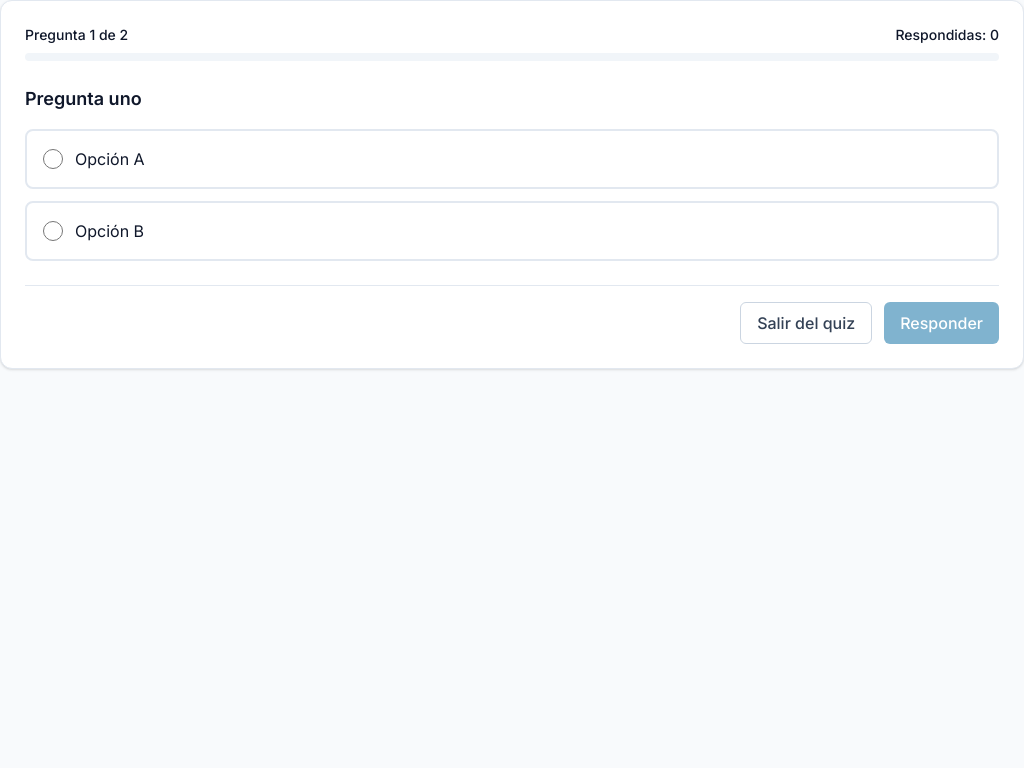
Quiz view › al terminar envía respuestas y muestra resultados del backend
This screenshot has width=1024, height=768.
Expected: the text "Pregunta uno" is shown, [25,88,142,109]
Click the radio button labelled "Opción A".
click(53, 159)  # box [43,149,63,169]
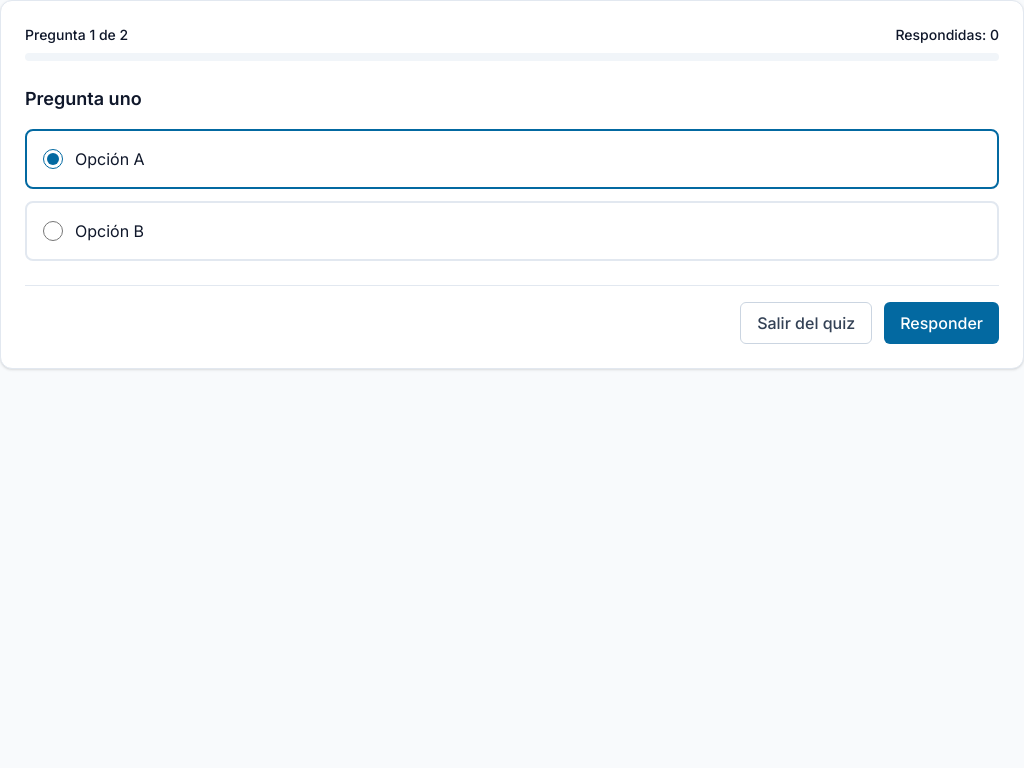
Click the button "Responder".
click(942, 323)  # box [884,302,999,344]
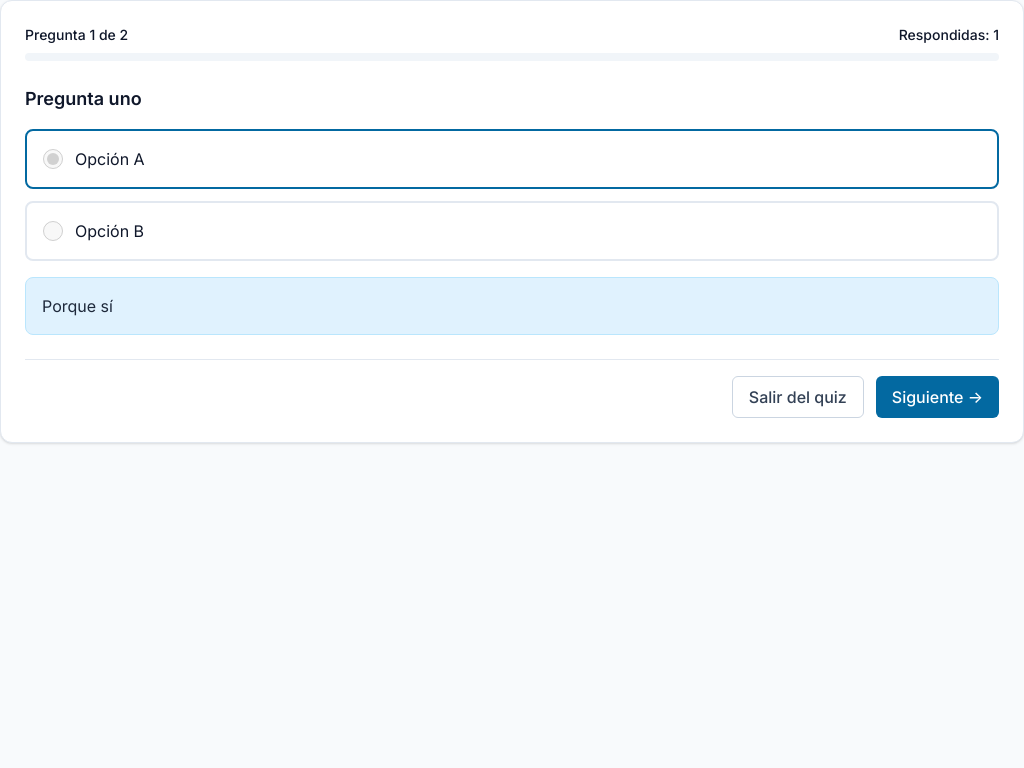
Click the button with test id "quiz-next".
click(937, 397)  # box [876,376,999,418]
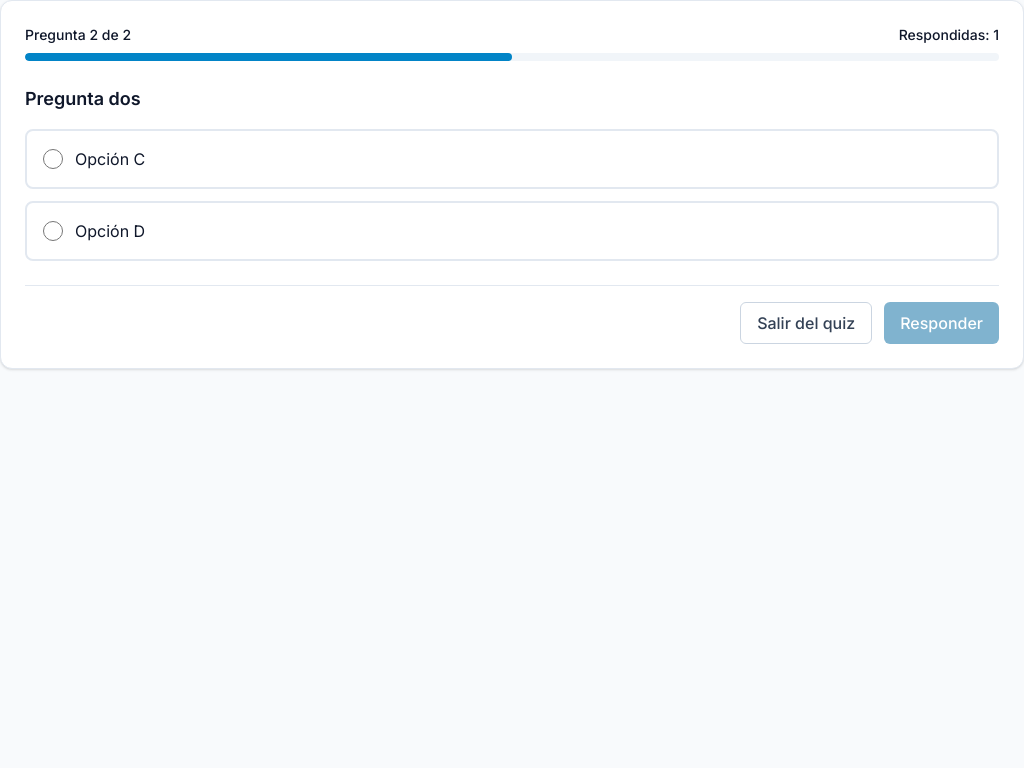
Click the radio button labelled "Opción D".
click(53, 231)  # box [43,221,63,241]
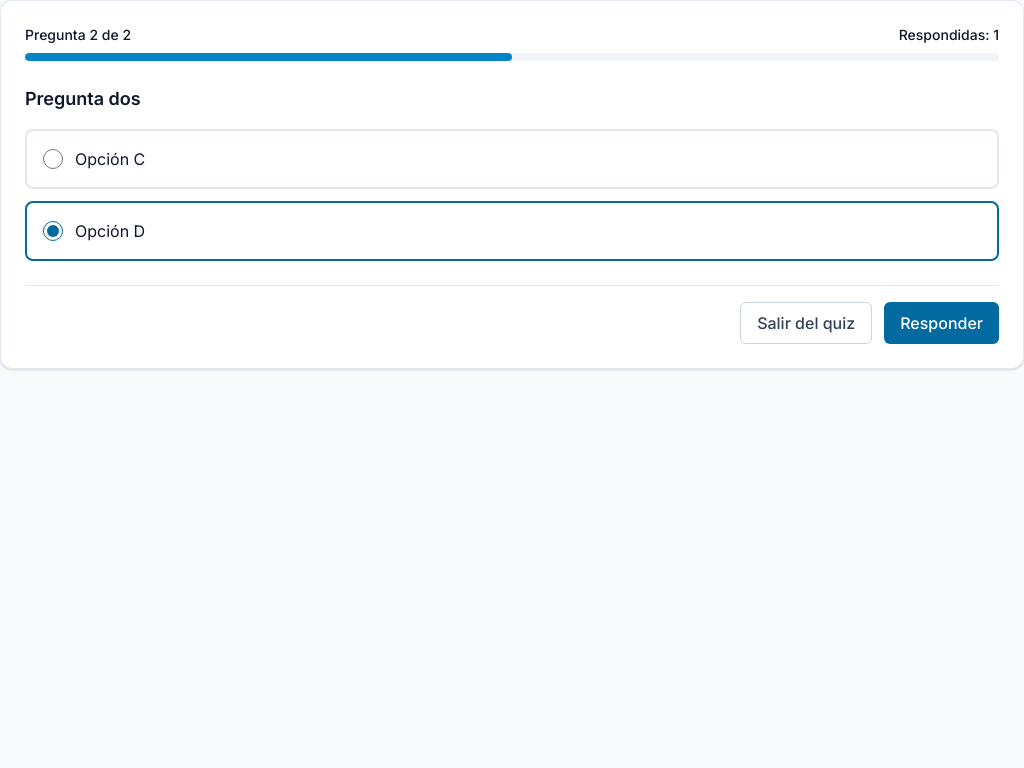
Click the button "Responder".
click(942, 323)  # box [884,302,999,344]
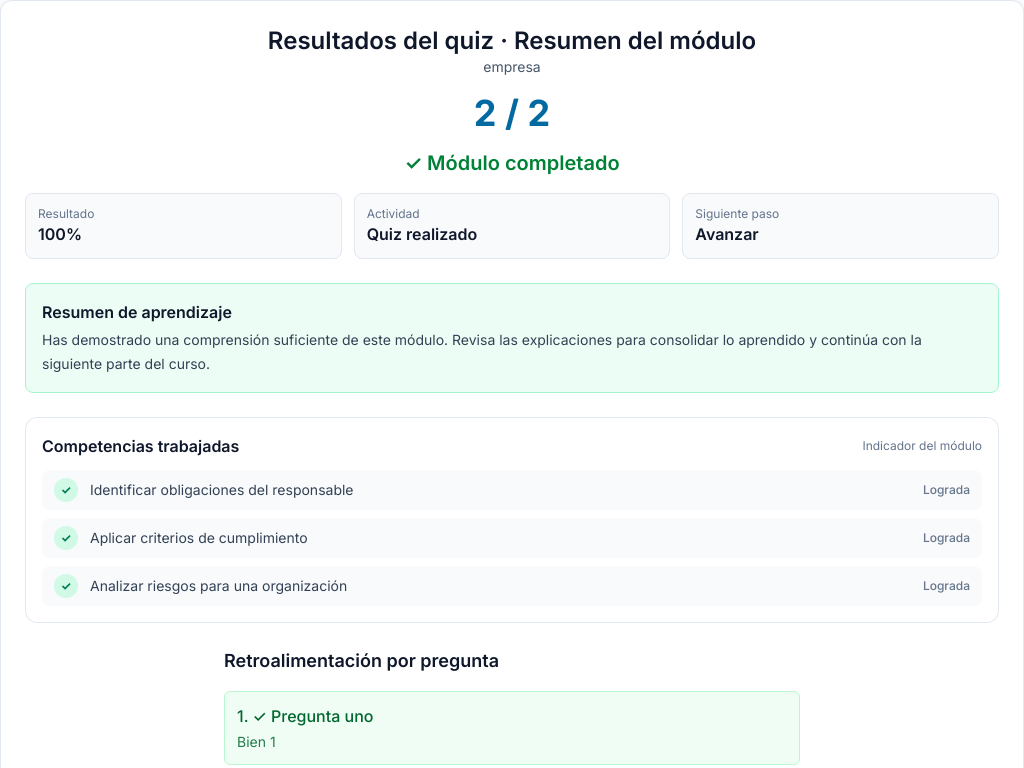
Now the heading "Resultados del quiz · Resumen del módulo" is shown, box [268,26,756,55]
Now the text "2 / 2" is shown, box [474,91,550,135]
